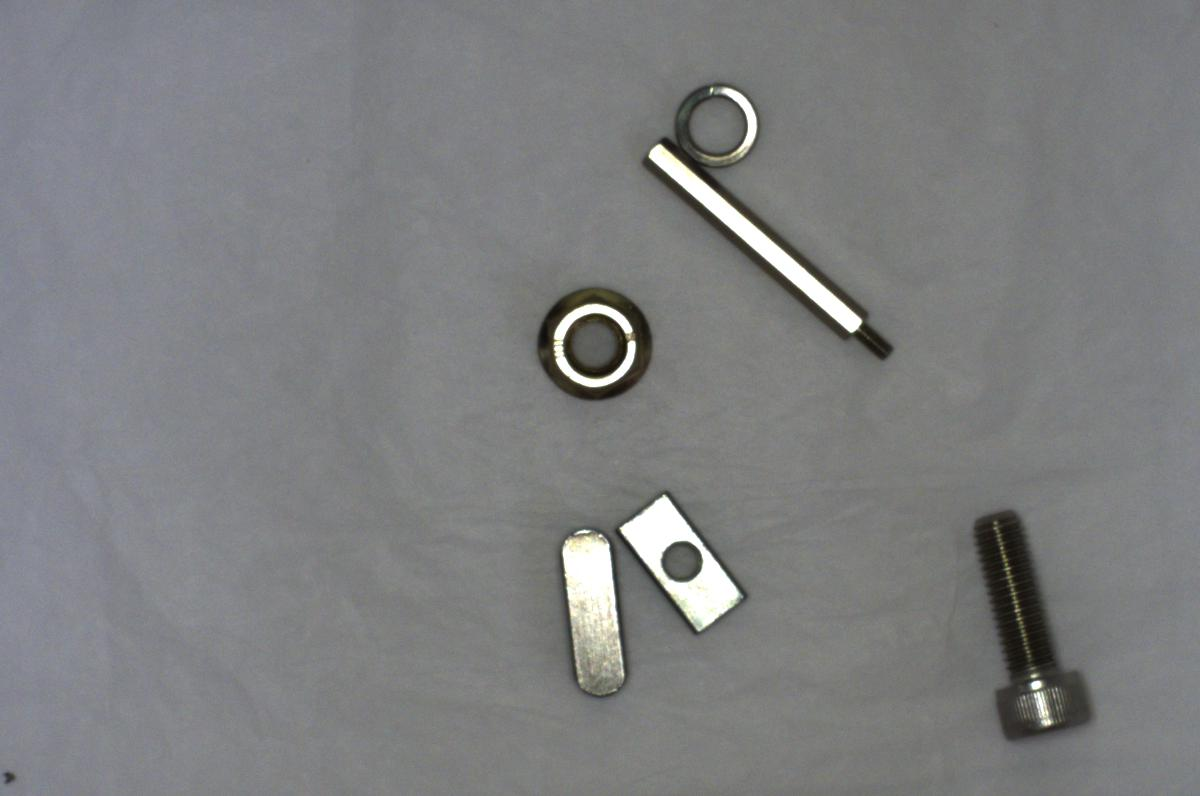Flange nut: (532, 291, 658, 403)
Hexagon screw: (966, 492, 1102, 749)
Hexagonal steel column: (630, 136, 907, 368)
Keybar: (542, 518, 632, 703)
Rectangular nut: (620, 490, 750, 630)
Spring washer: (665, 80, 758, 165)
